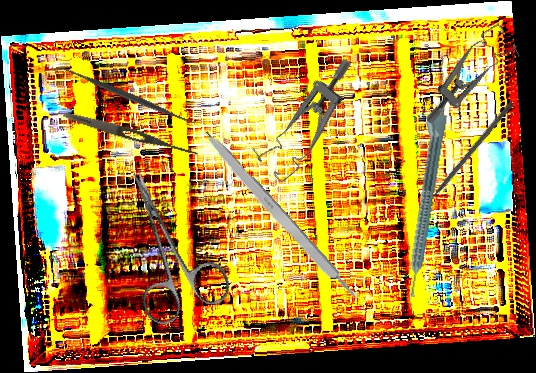Dressing Forceps: (62, 108, 200, 160)
Handpiece: (396, 98, 450, 299)
Hook Surgical: (418, 100, 515, 213)
Iris Scissors: (97, 154, 236, 330)
Scalpel Handle: (197, 127, 362, 306)
Spatula Surgical: (52, 57, 201, 134)
Speculum: (242, 55, 382, 187), (403, 21, 528, 126)
